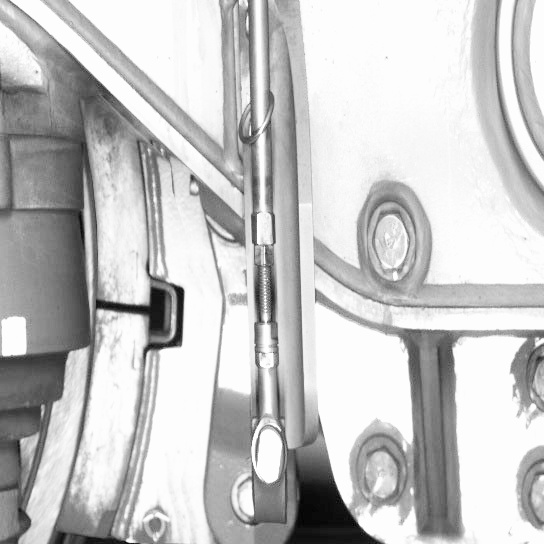ClosedKnifeSwitch: (46, 137, 171, 542)
